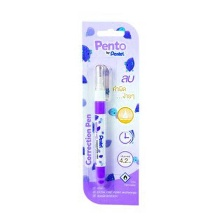book: (79, 19, 140, 206)
correction_fluid: (90, 59, 112, 190)
